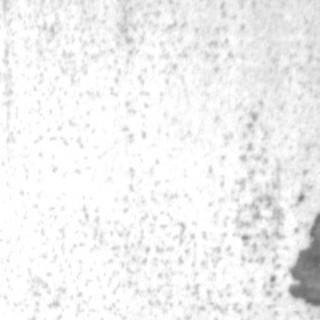patches: (286, 205, 318, 307)
pitted_surface: (0, 1, 284, 316)
